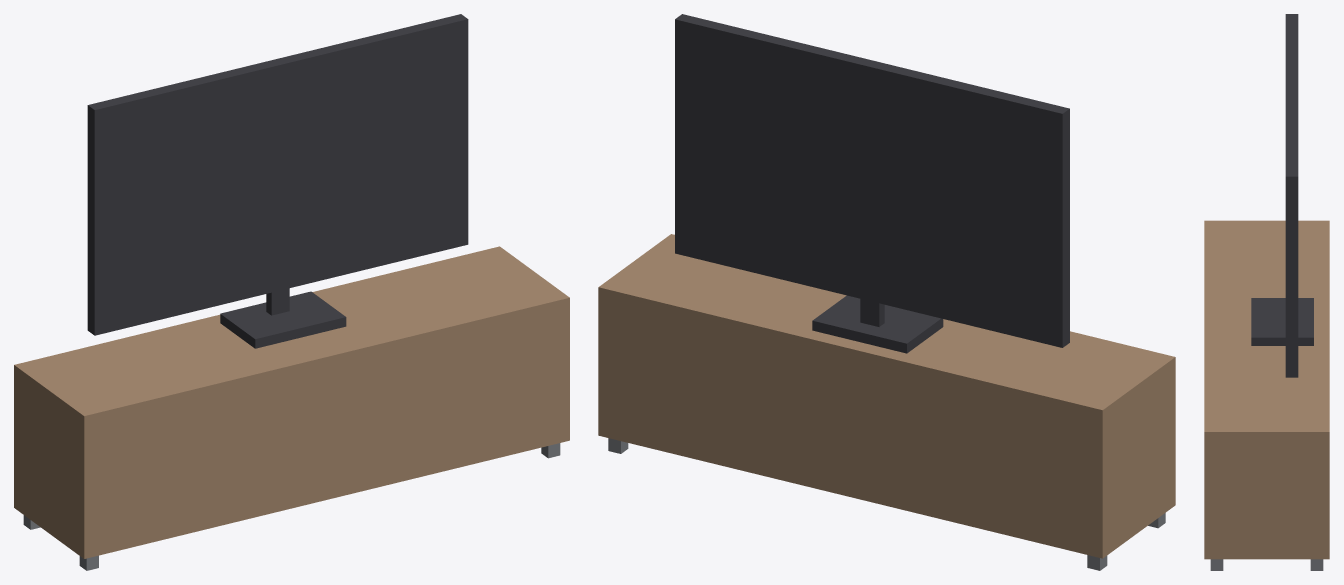
Rendered from tv-cabinet.glb.
3 views of the same model, side by side, from view 1: azimuth 30°, elevation 25°; view 2: azimuth 150°, elevation 25°; view 3: azimuth 270°, elevation 25° (orthographic). The views are drawn at different scales.
Visible parts, largest first — view 1: Cabinet, TV, Stand; view 2: Cabinet, TV, Stand; view 3: Cabinet, TV, Stand.
Part boxes in pixels (x1,y1,x2,y2): Cabinet: (14,246,569,558); TV: (87,14,468,335); Stand: (220,291,346,348); Cabinet: (598,234,1175,558); TV: (675,14,1069,347); Stand: (812,295,943,353); Cabinet: (1204,220,1329,559); TV: (1285,14,1298,377); Stand: (1251,298,1313,345).
Bounding box in the file's own units: 1.6 × 1.31 × 0.4.
